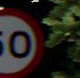Speed limit: (0, 5, 42, 76)
